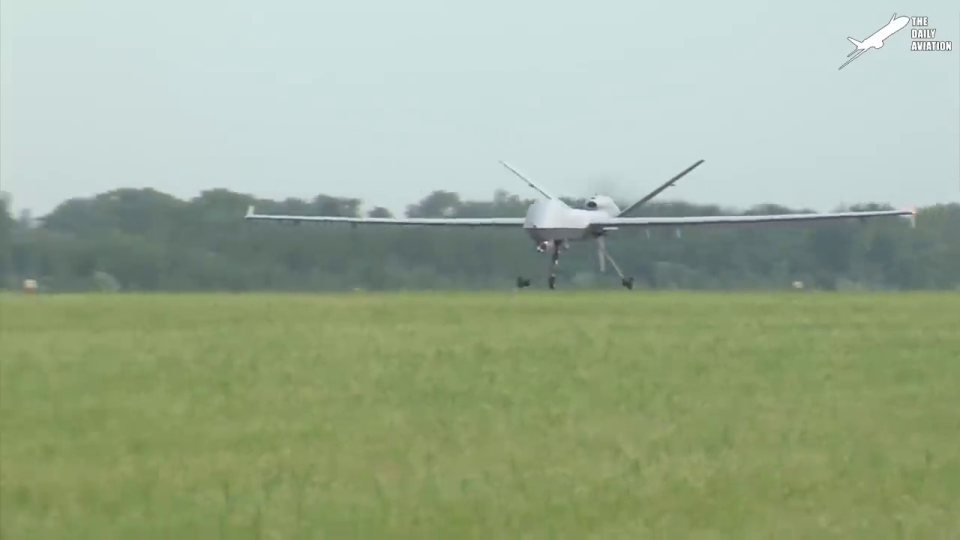military drone: (242, 159, 917, 289)
